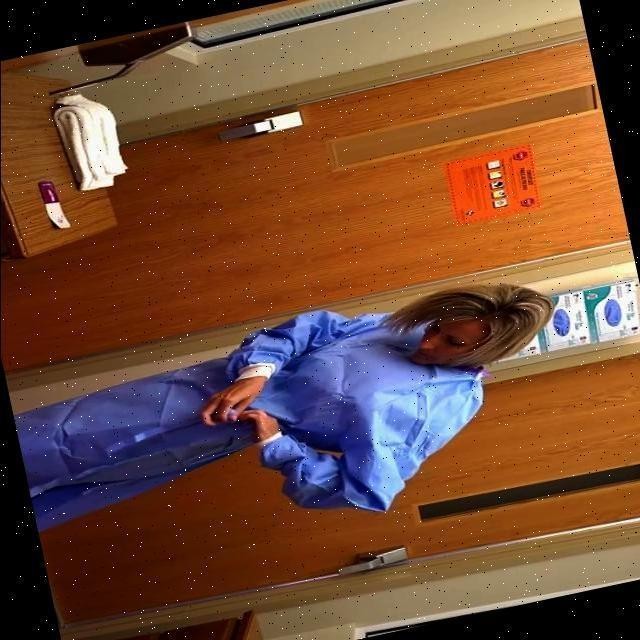no_apron: (208, 367, 269, 421), (245, 402, 284, 440)
no_hairnet: (412, 326, 458, 364)
